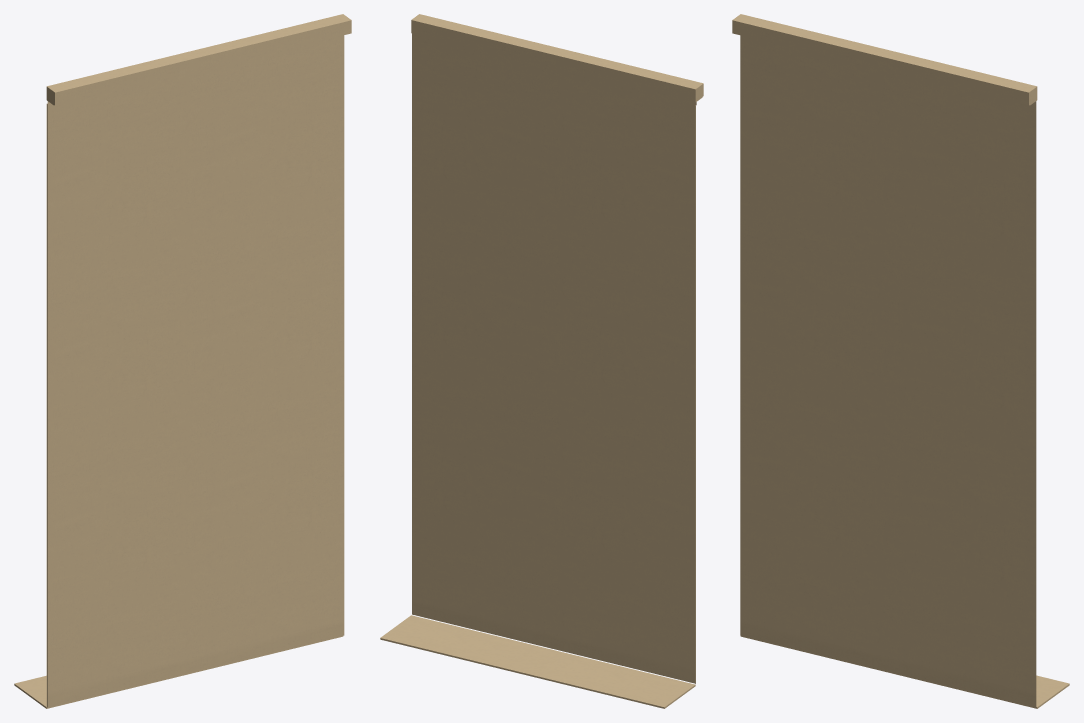
Rendered from dyers-alley-receivers-covered-souk.glb.
3 renders of one model, left to right at view 1: azimuth 30°, elevation 25°; view 2: azimuth 150°, elevation 25°; view 3: azimuth 330°, elevation 25°, orthographic. The views are drawn at different scales.
Parts seen in each view (by area): view 1: bz06_sand_plaster-cast; view 2: bz06_sand_plaster-cast; view 3: bz06_sand_plaster-cast.
Boxes of the visible parts, box(x1,y1,x2,y2) form: bz06_sand_plaster-cast: box(14, 14, 351, 708); bz06_sand_plaster-cast: box(380, 14, 703, 708); bz06_sand_plaster-cast: box(732, 14, 1069, 708).
Size of the model in its own units: 3.6 by 7.22 by 0.86.
1 material, 1 textured.
